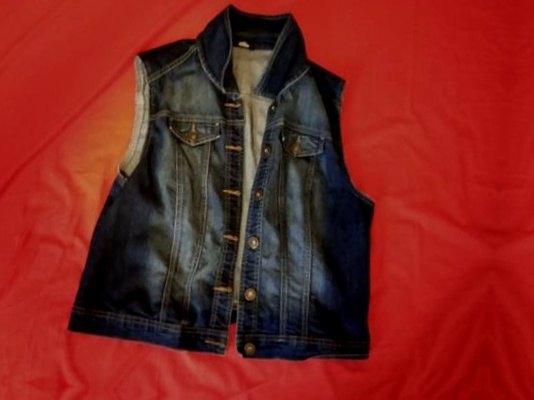Blazer: (60, 11, 415, 374)
